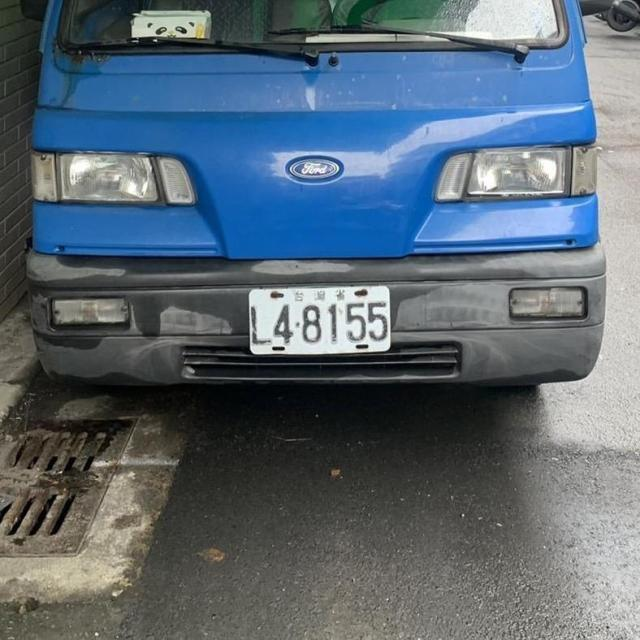W: (241, 271, 400, 371)
